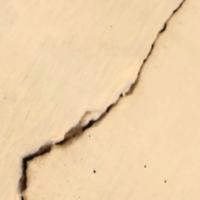crack: (9, 0, 186, 199)
